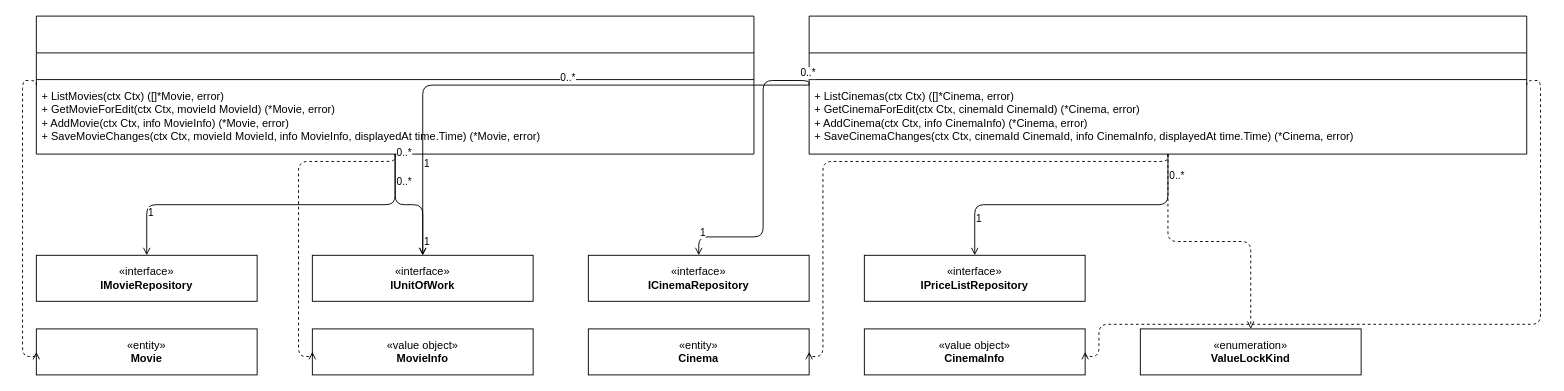
The diagram is 1564 pixels wide and 391 high, and some of its shapes have lost their labels. The box of each missing label's shape, as (x1, y1, x2, y2) in pixels:
«control» ManageCinemasService: (808, 15, 1527, 154)
«control» ManageMoviesService: (35, 15, 754, 154)
